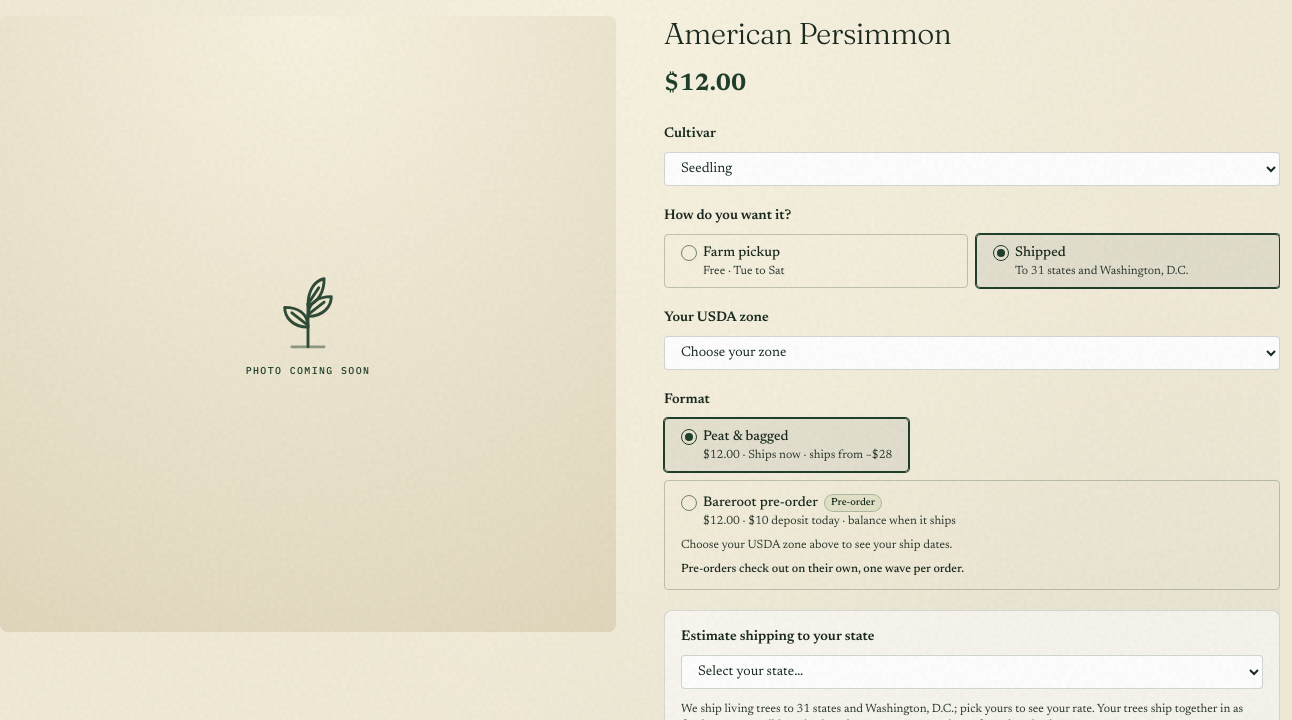
Test: ProductView: Farm pickup / Shipped gate › the pre-order CTA waits for a zone when shipped
Click the button "Bareroot pre-order" at (761, 503), box top-left (681, 493), bottom-right (1263, 529)
(page scrolled)
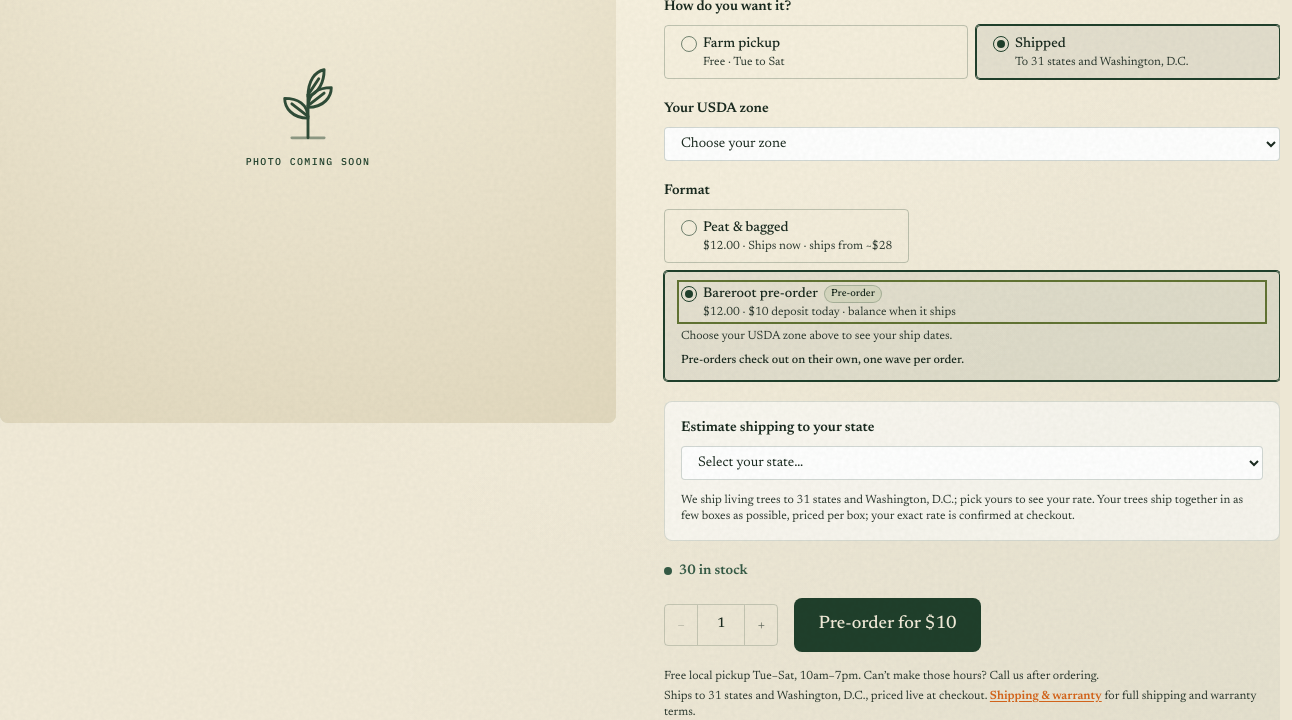
Check: the text "Choose your USDA zone above to see your ship dates." is shown, box top-left (681, 330), bottom-right (952, 342)
Check: the button "Pre-order for $10" is disabled, box top-left (794, 598), bottom-right (981, 652)
